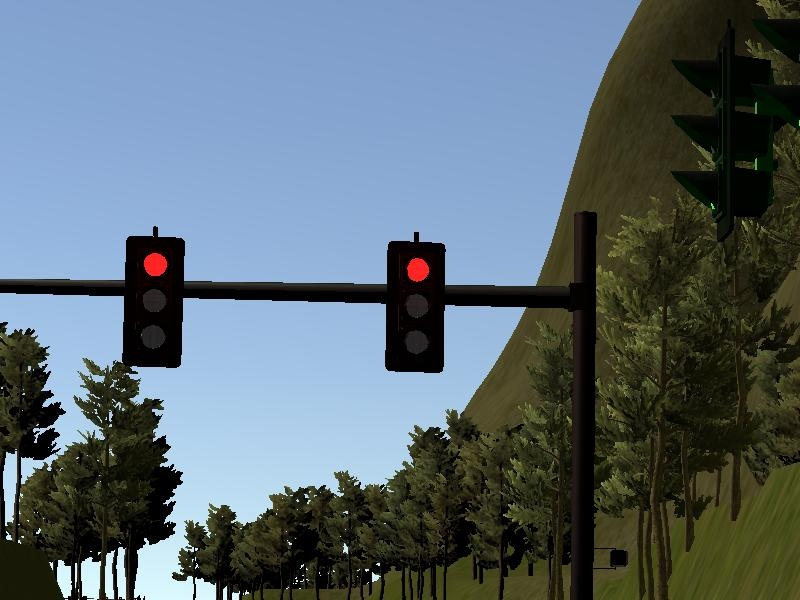RED: (123, 236, 183, 367), (383, 241, 443, 372)
